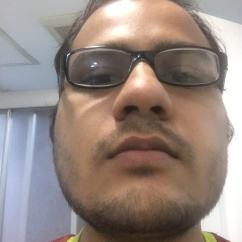glasses: (55, 46, 228, 91)
